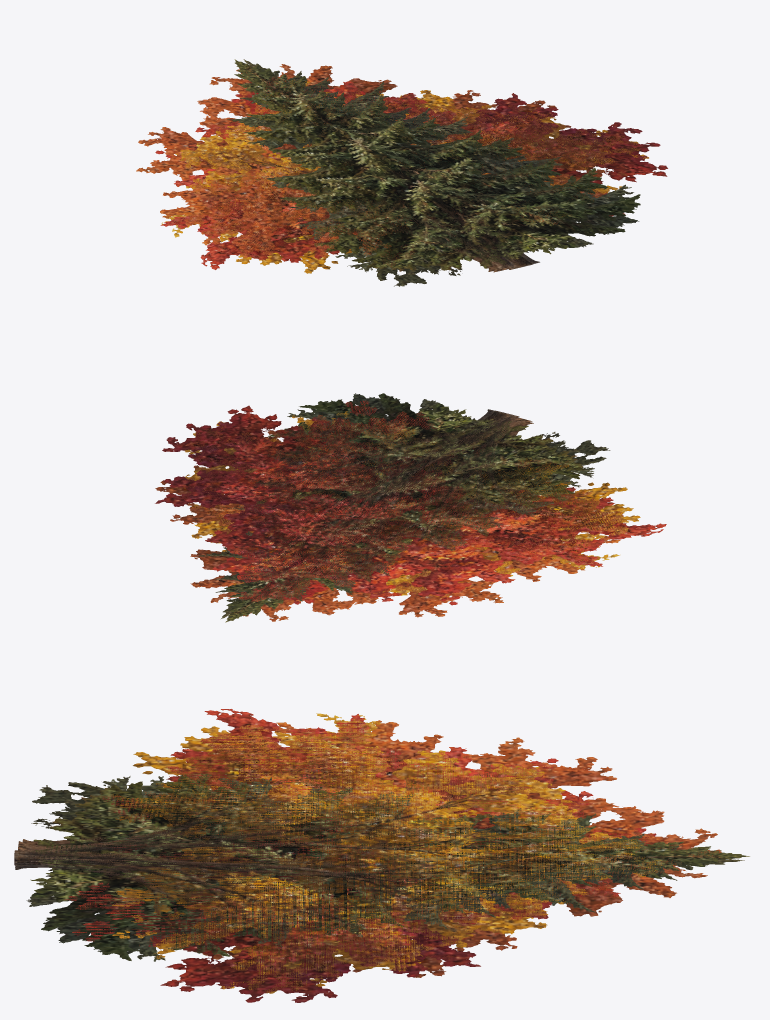
Rendered from Low_Trees.fbx.
The picture shows the model from 3 angles, top to bottom: view 1: azimuth 30°, elevation 25°; view 2: azimuth 150°, elevation 25°; view 3: azimuth 270°, elevation 25°; orthographic projection. The views are drawn at different scales.
Parts seen in each view (by area): view 1: Tree_1, Tree_5, Tree_3, Tree_4, Tree_2; view 2: Tree_3, Tree_1, Tree_5, Tree_4, Tree_2; view 3: Tree_4, Tree_1, Tree_3, Tree_5, Tree_2.
Boxes of the visible parts, bbox=[...] form: Tree_1: bbox=[234, 59, 640, 271]; Tree_5: bbox=[136, 64, 627, 271]; Tree_3: bbox=[155, 77, 667, 269]; Tree_4: bbox=[161, 79, 648, 273]; Tree_2: bbox=[227, 59, 639, 286]; Tree_3: bbox=[155, 400, 666, 605]; Tree_1: bbox=[224, 393, 584, 622]; Tree_5: bbox=[155, 414, 622, 621]; Tree_4: bbox=[184, 411, 640, 596]; Tree_2: bbox=[196, 393, 610, 618]; Tree_4: bbox=[18, 713, 665, 993]; Tree_1: bbox=[17, 774, 749, 960]; Tree_3: bbox=[14, 709, 672, 1002]; Tree_5: bbox=[22, 720, 721, 977]; Tree_2: bbox=[15, 776, 744, 961].
Size of the model in its own units: 561 by 6.19e-05 by 578.
